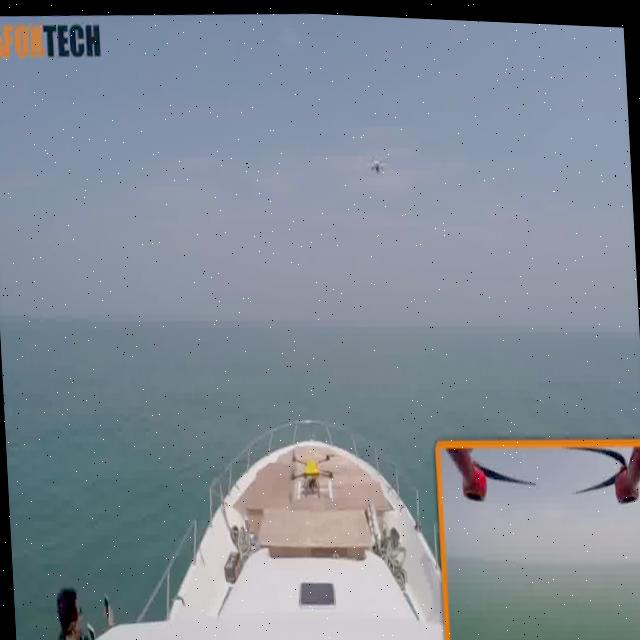drone: (278, 433, 350, 512), (360, 135, 394, 172)
